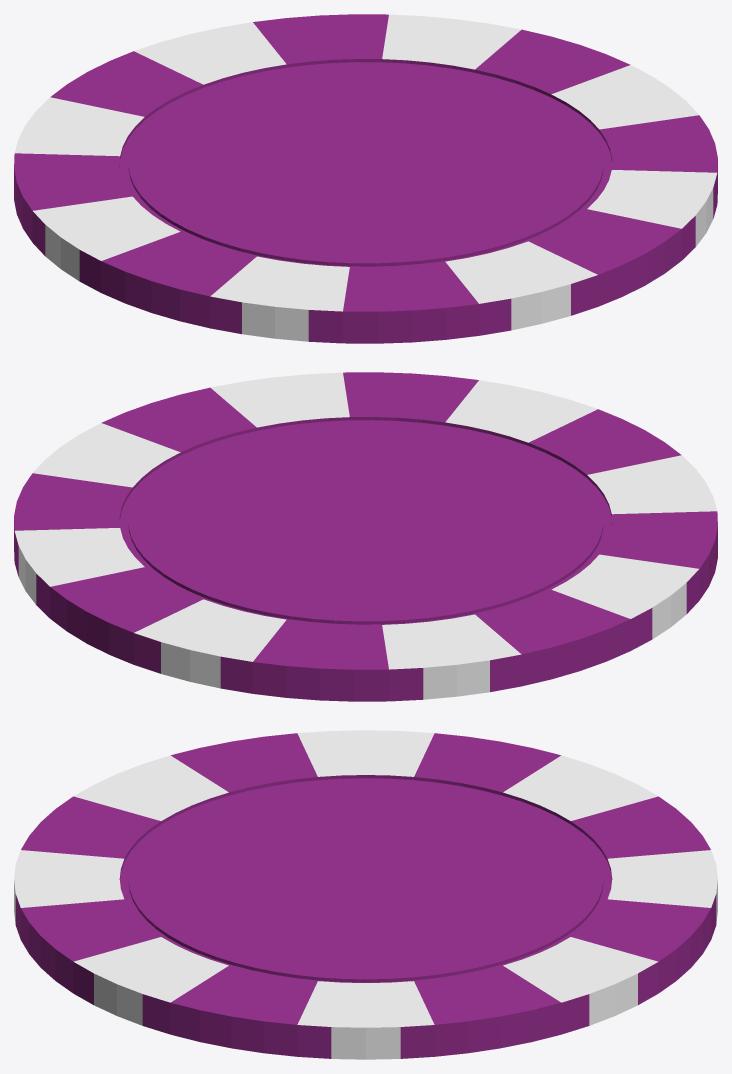
3 renders of one model, top to bottom at view 1: azimuth 30°, elevation 25°; view 2: azimuth 150°, elevation 25°; view 3: azimuth 270°, elevation 25°, orthographic.
Parts seen in each view (by area): view 1: chip.005; view 2: chip.005; view 3: chip.005.
Boxes of the visible parts, <box> form: chip.005: <box>14,14,717,343</box>; chip.005: <box>14,372,717,701</box>; chip.005: <box>14,730,717,1059</box>.
Size of the model in its own units: 200 by 10 by 200.
